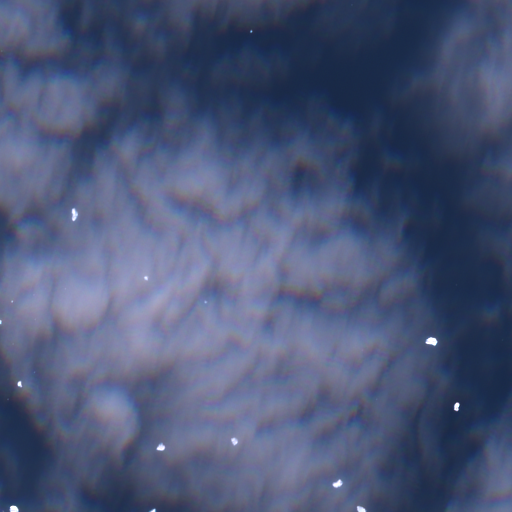Iceberg: (425, 337, 437, 345), (332, 479, 342, 487), (71, 208, 77, 220), (8, 505, 19, 511), (156, 442, 164, 450), (453, 402, 459, 411), (231, 437, 237, 445), (357, 506, 366, 511), (17, 380, 21, 387), (149, 508, 155, 511), (144, 276, 147, 280), (250, 29, 252, 32), (204, 300, 206, 302), (0, 320, 1, 323), (11, 300, 12, 302), (7, 398, 8, 399)
